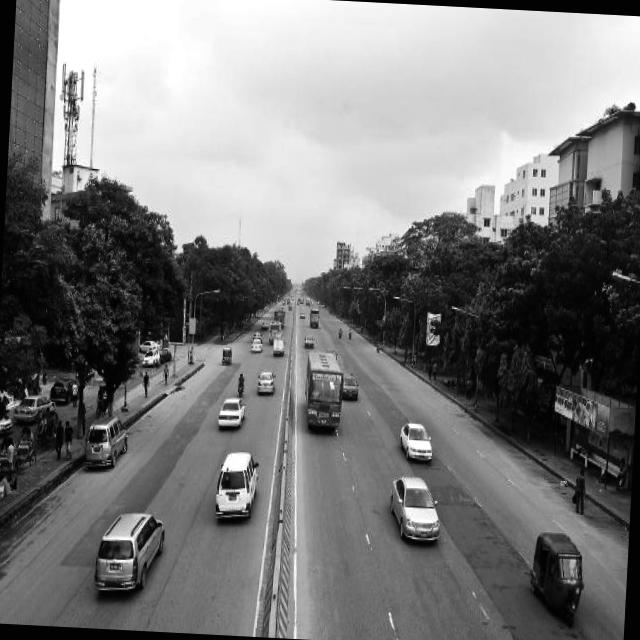bus: (301, 346, 344, 428), (268, 317, 281, 333), (273, 308, 286, 318), (303, 294, 308, 302)
car: (88, 502, 168, 594), (388, 470, 443, 542), (9, 388, 54, 422), (398, 417, 433, 458), (215, 394, 245, 427), (48, 374, 76, 402), (342, 367, 358, 400), (256, 364, 276, 390), (140, 344, 160, 366), (160, 344, 172, 362), (248, 335, 262, 350), (140, 334, 160, 344), (302, 331, 314, 344), (252, 326, 262, 335), (259, 317, 268, 326), (300, 307, 306, 315)
motorcycle: (524, 526, 584, 622), (14, 423, 39, 464), (38, 406, 58, 446), (0, 431, 15, 474), (94, 380, 110, 415), (220, 342, 232, 362), (236, 368, 244, 394), (336, 326, 342, 336), (347, 324, 351, 336)
truck: (212, 445, 258, 519), (80, 410, 129, 466), (270, 334, 284, 353), (308, 304, 319, 324)
